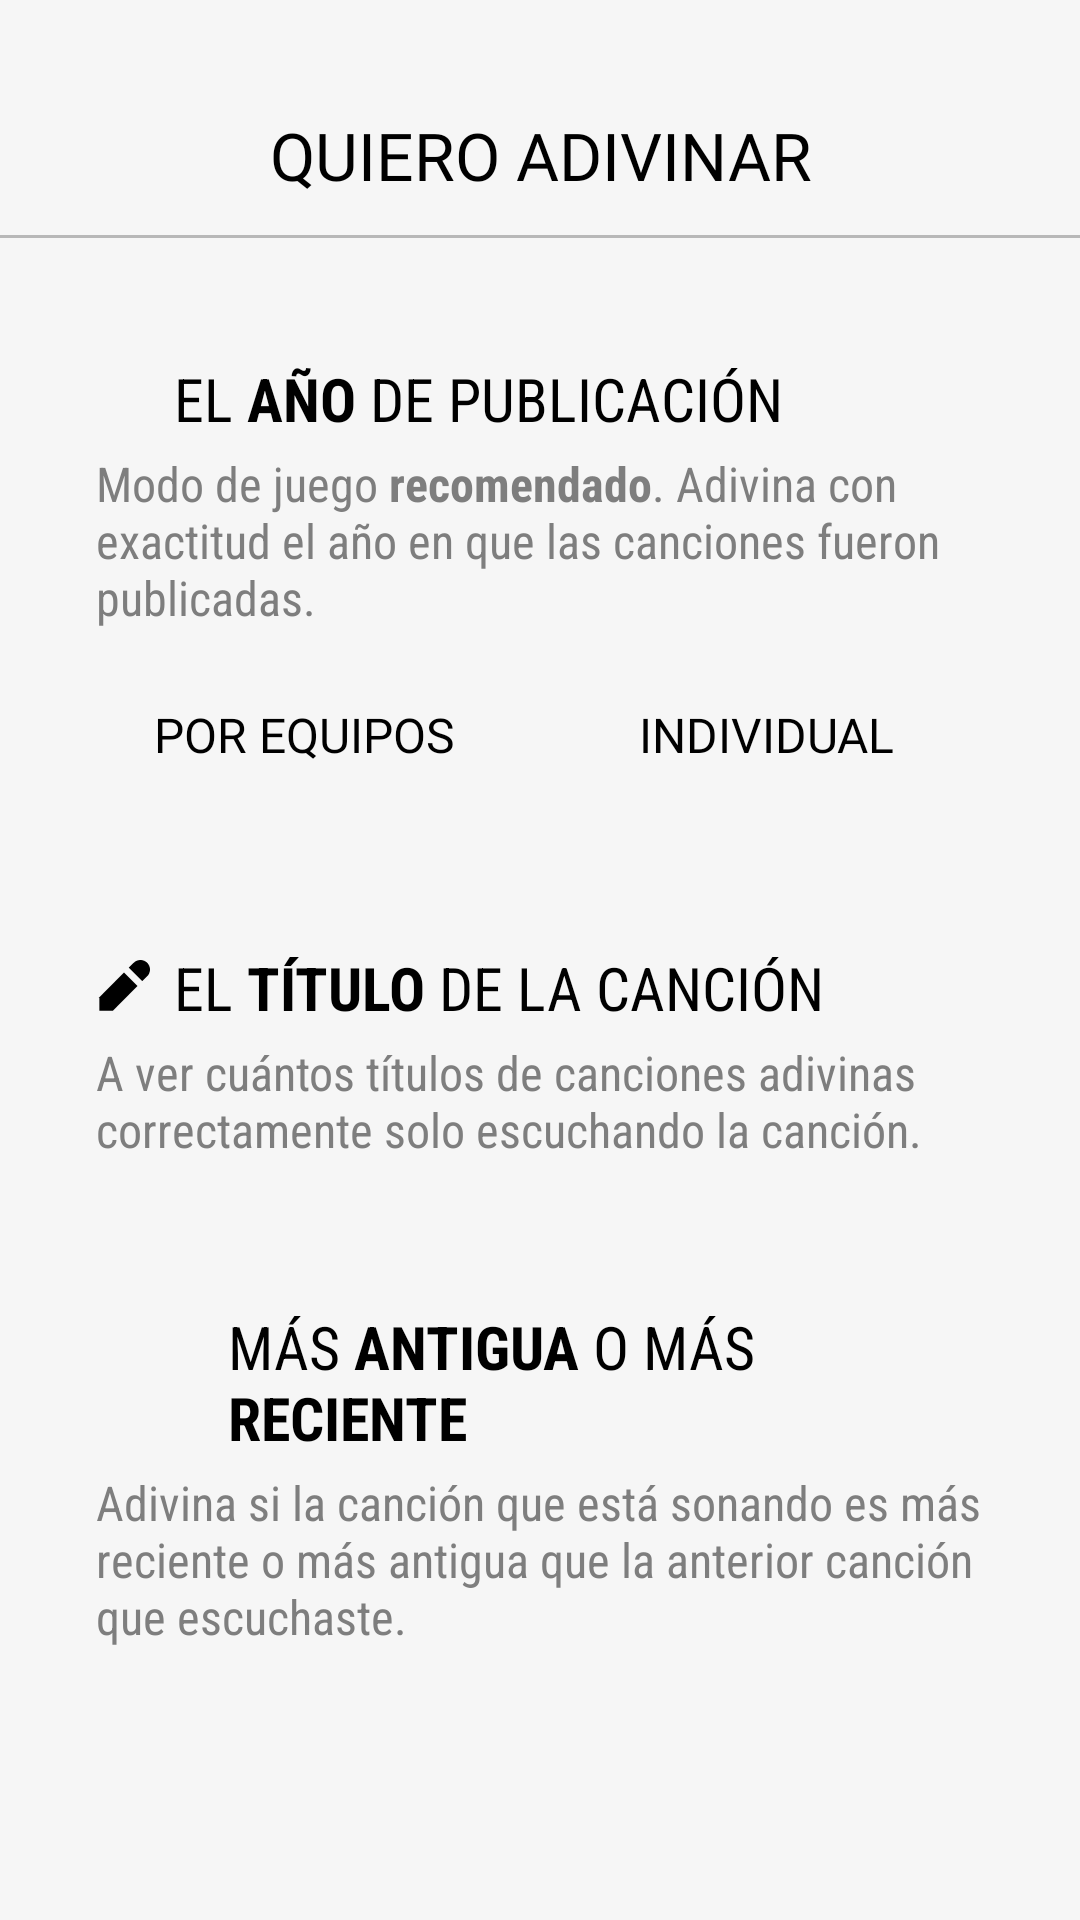

Named icons in this screenshot (1080 x 1920) and their bounding boxes, (x1=x1, y1=y1, x2=x2, y2=y2):
pencil: (x1=99, y1=960, x2=150, y2=1011)
